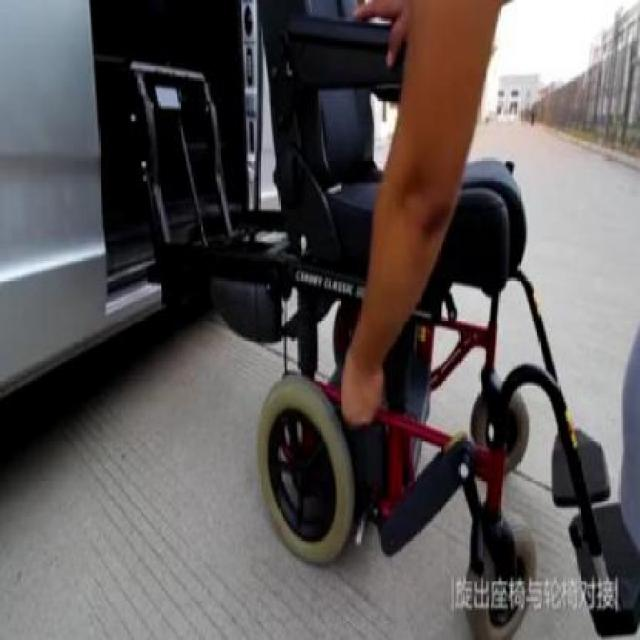peopleWithWheelchair: (132, 0, 638, 638)
